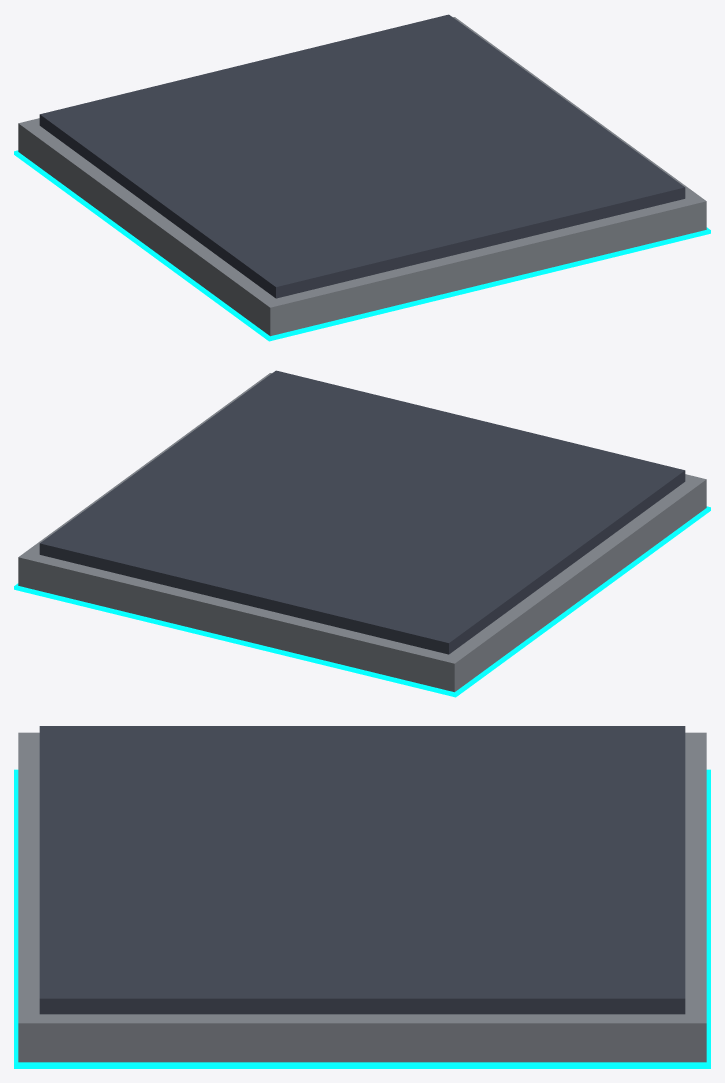
Rendered from ELEV_Monorail_Track_Corner.glb.
3 views of the same model, one above another, from view 1: azimuth 30°, elevation 25°; view 2: azimuth 150°, elevation 25°; view 3: azimuth 270°, elevation 25° (orthographic). The views are drawn at different scales.
Visible parts, largest first — view 1: ELEV_Monorail_Track_Corner; view 2: ELEV_Monorail_Track_Corner; view 3: ELEV_Monorail_Track_Corner.
Boxes of the visible parts, <box> form: ELEV_Monorail_Track_Corner: <box>14,14,710,341</box>; ELEV_Monorail_Track_Corner: <box>14,370,710,697</box>; ELEV_Monorail_Track_Corner: <box>14,726,710,1068</box>.
Size of the model in its own units: 8.1 by 0.76 by 8.1.
